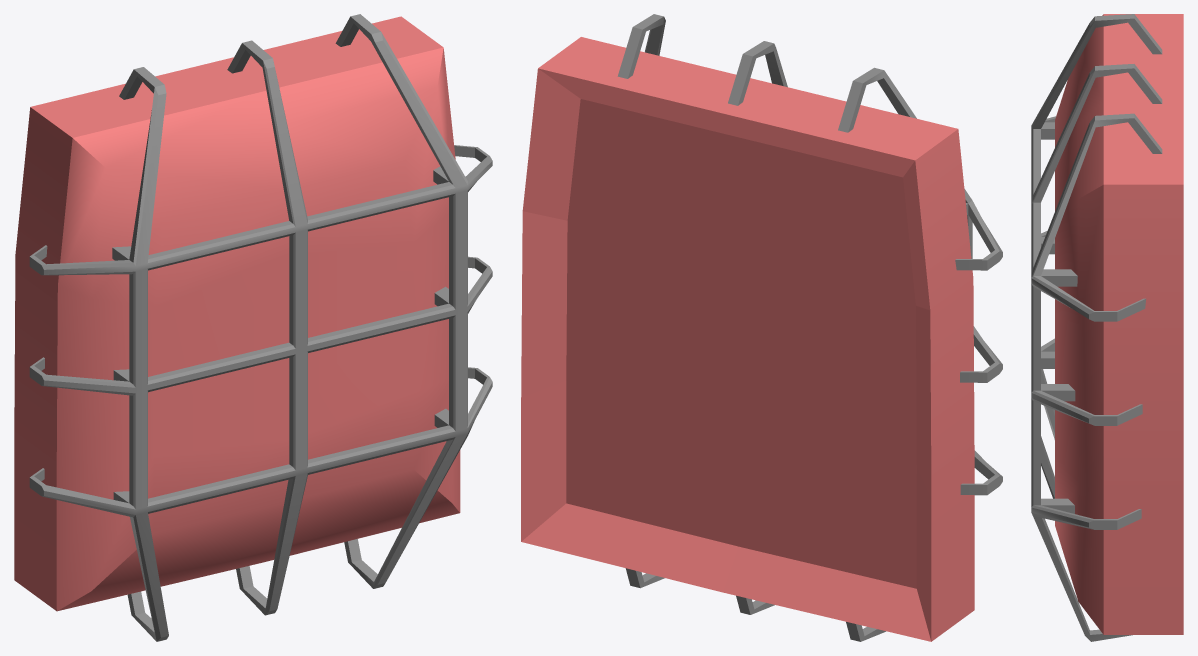
File: ChargeCoreKey.fbx
3 renders of one model, left to right at view 1: azimuth 30°, elevation 25°; view 2: azimuth 150°, elevation 25°; view 3: azimuth 270°, elevation 25°, orthographic. The views are drawn at different scales.
Visible parts, largest first — view 1: ChargeCore, Cage; view 2: ChargeCore, Cage; view 3: ChargeCore, Cage.
Boxes of the visible parts, x1,y1,x2,y2 form: ChargeCore: (14, 16, 460, 611); Cage: (29, 14, 492, 641); ChargeCore: (521, 37, 974, 641); Cage: (617, 14, 1002, 641); ChargeCore: (1055, 14, 1183, 634); Cage: (1031, 14, 1162, 641).
Size of the model in its own units: 5.99 by 7.09 by 1.87.
